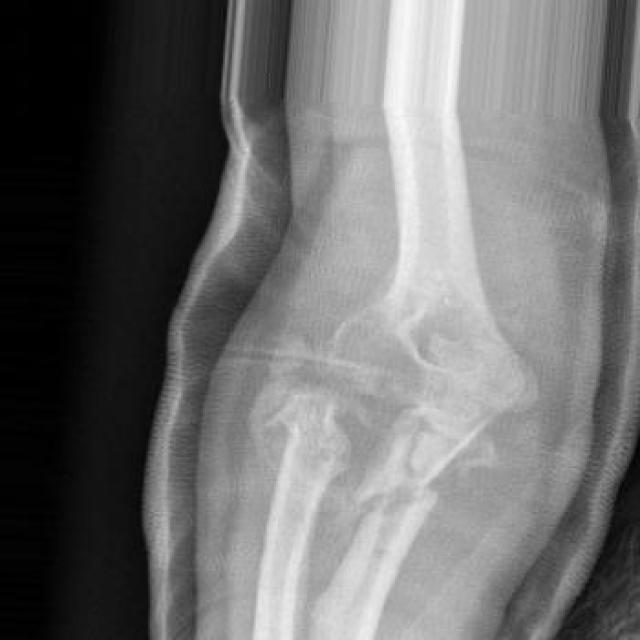Fracture: (353, 458, 453, 546)
